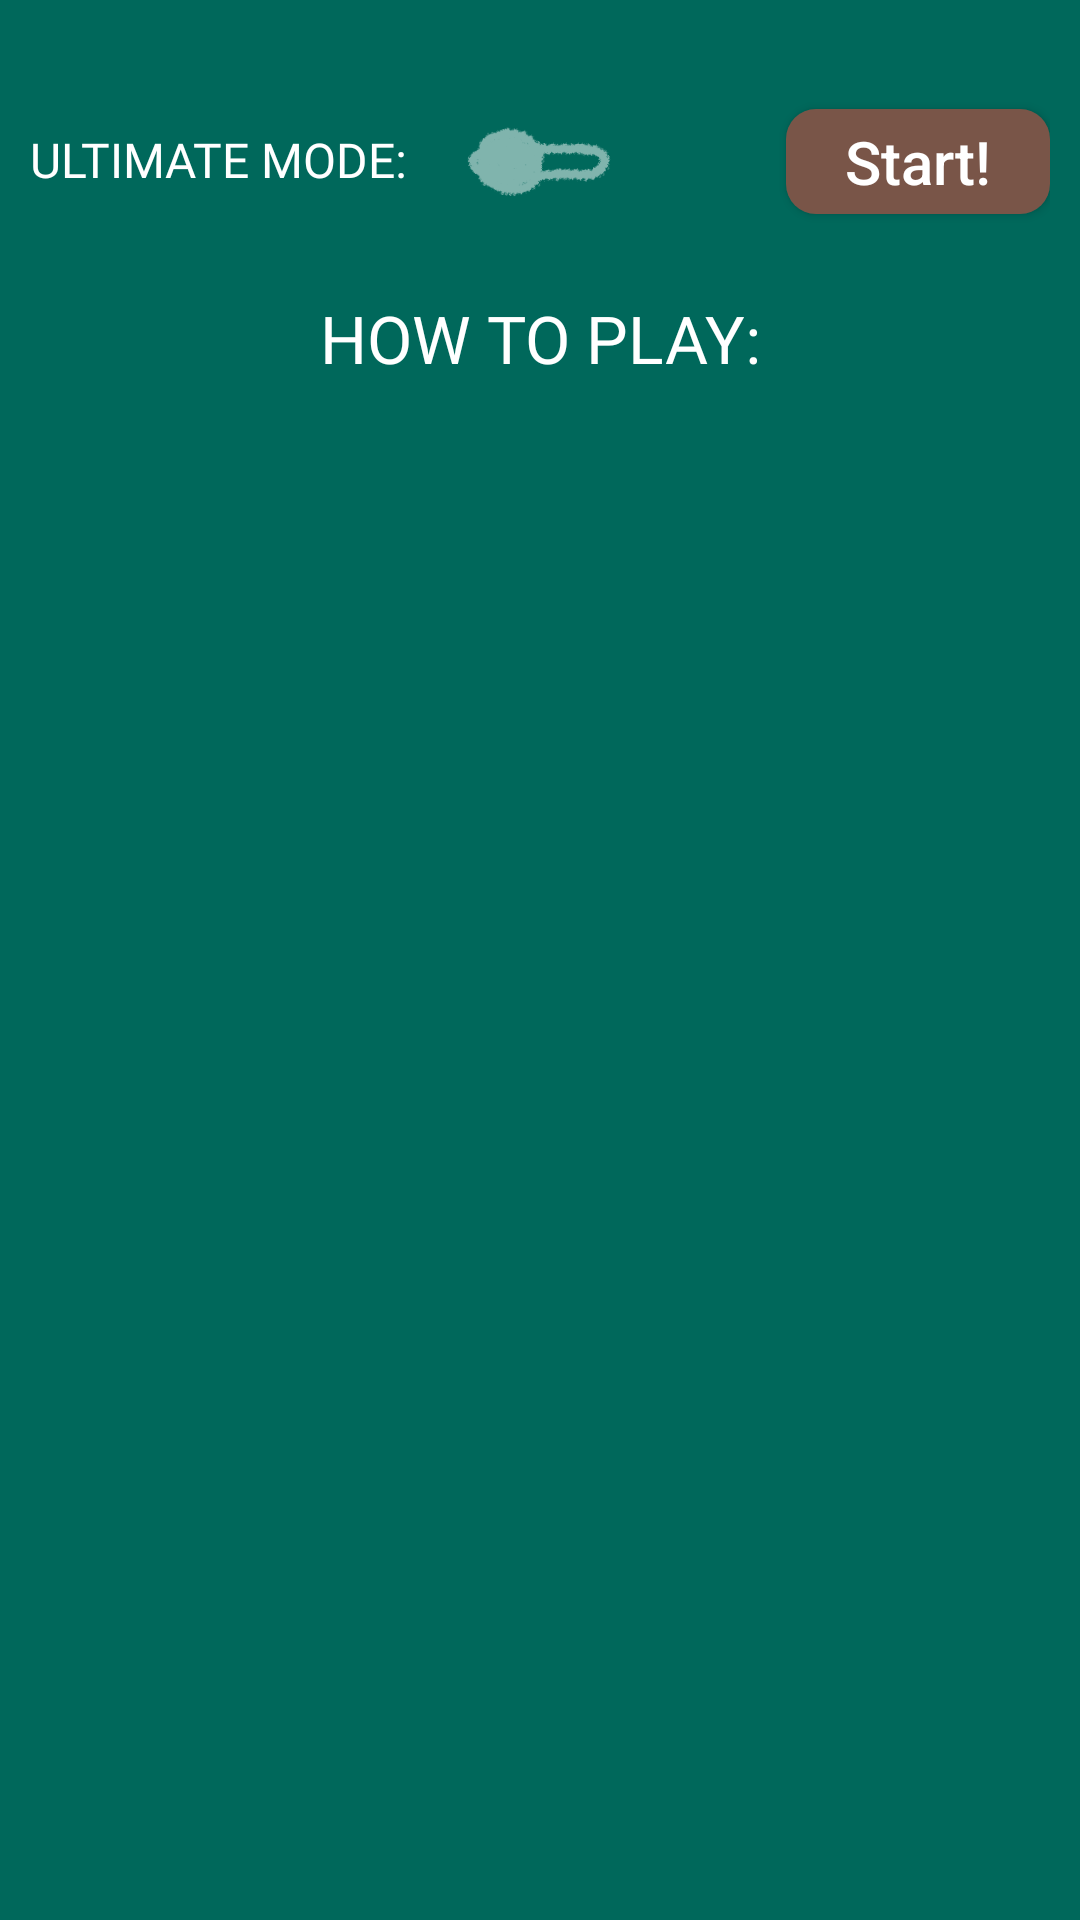

Point at icon controls on the screen. Image size 1080*1920, points as point (x, y).
toggle switch chalk off: point (539, 161)
